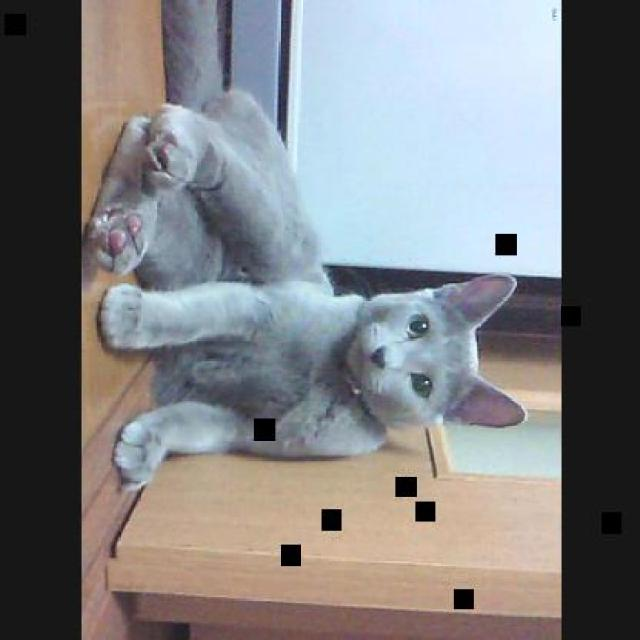unauthorized: (89, 86, 526, 491)
